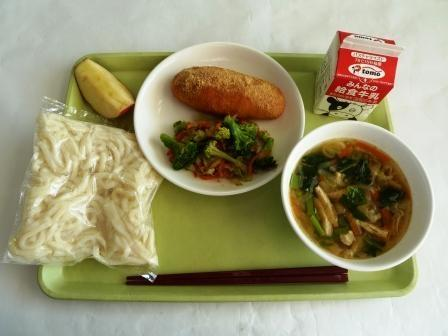Apple: (60, 51, 141, 127)
Bread: (163, 47, 291, 127)
Milk: (298, 22, 415, 130)
Salad: (150, 105, 282, 186)
Soups: (283, 117, 434, 273)
Udon: (0, 105, 175, 268)
